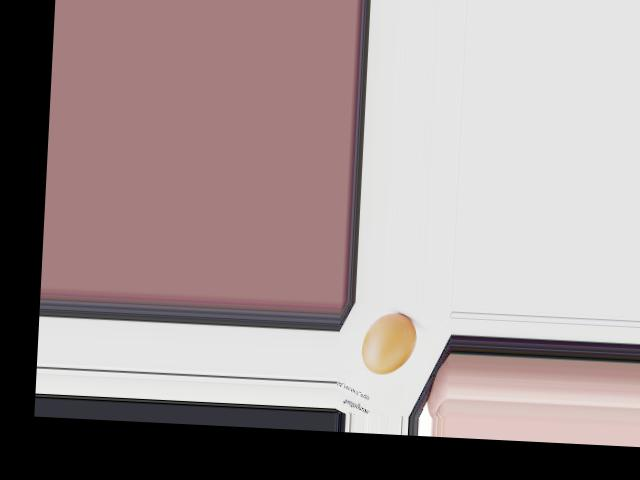egg: (361, 311, 417, 375)
